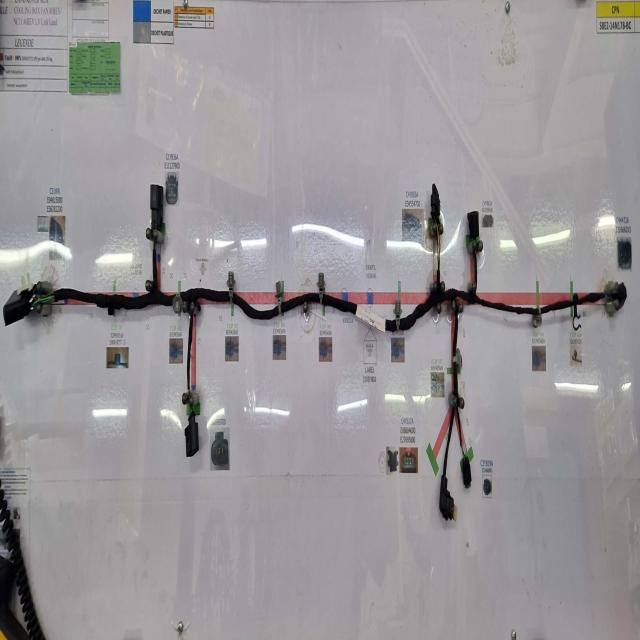Clip: (570, 280, 581, 347), (172, 280, 188, 314), (532, 280, 541, 327), (391, 294, 401, 331), (226, 270, 236, 307), (276, 280, 284, 314), (318, 270, 325, 304)
Connector: (146, 182, 165, 240), (4, 290, 30, 324), (439, 476, 458, 520), (185, 412, 199, 455), (430, 182, 440, 223), (468, 209, 479, 240), (461, 455, 471, 489), (619, 283, 626, 307)
Gape: (28, 285, 56, 310), (435, 224, 443, 278), (152, 224, 158, 258), (188, 397, 192, 418)
Info: (356, 304, 386, 331)
MHEV_N11_Cable: (52, 248, 606, 474)
